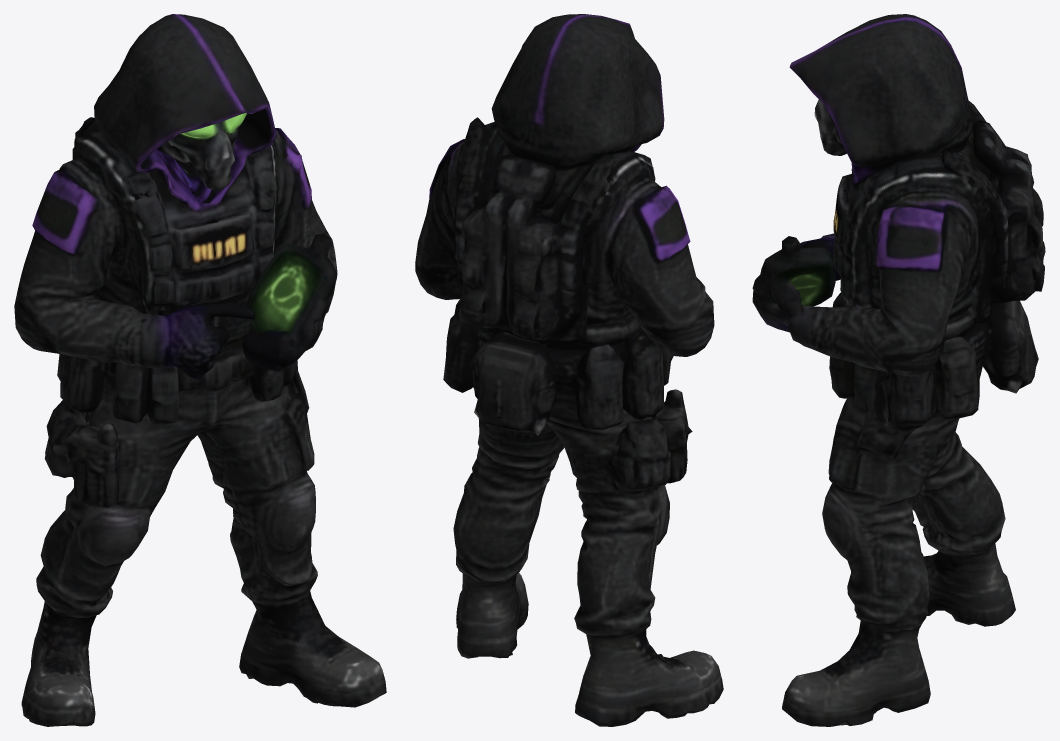
The model's file is recon_l02.glb.
The picture shows the model from 3 angles, left to right: view 1: azimuth 30°, elevation 25°; view 2: azimuth 150°, elevation 25°; view 3: azimuth 270°, elevation 25°; orthographic projection. The views are drawn at different scales.
Visible parts, largest first — view 1: world; view 2: world; view 3: world.
Part boxes in pixels (left/top/right/bottom): world: left=14, top=14, right=386, bottom=726; world: left=415, top=14, right=723, bottom=726; world: left=752, top=14, right=1045, bottom=726.
Size of the model in its own units: 0.4699 by 1 by 0.4147.
Materials: 1 (1 with a texture image).
